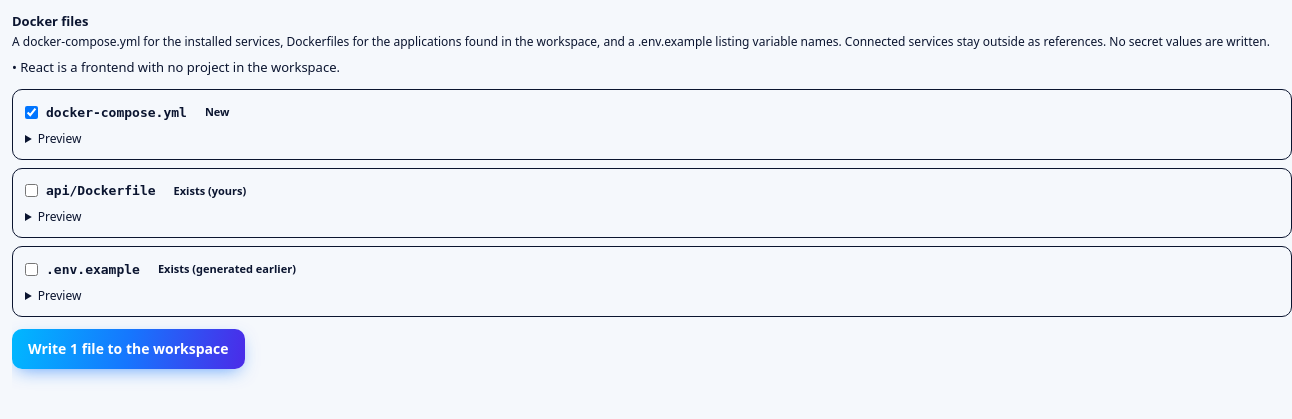
Test: DeployFiles › lists files with their status, selects only new ones by default, and writes after confirmation
The width and height of the screenshot is (1292, 419).
Check: the text "docker-compose.yml" is shown, box [46,102,187,122]
Check: the text "Exists (yours)" is shown, box [168,180,252,201]
Click the button "Write 1 file to the workspace": (128, 348) [12,328,245,368]
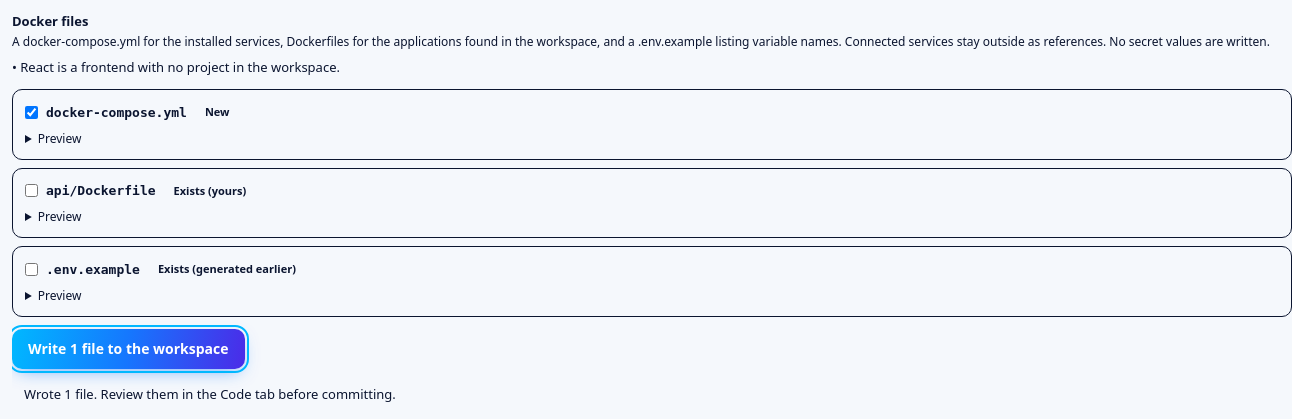
Check: the message shows "Wrote 1 file", box [24,384,396,402]
